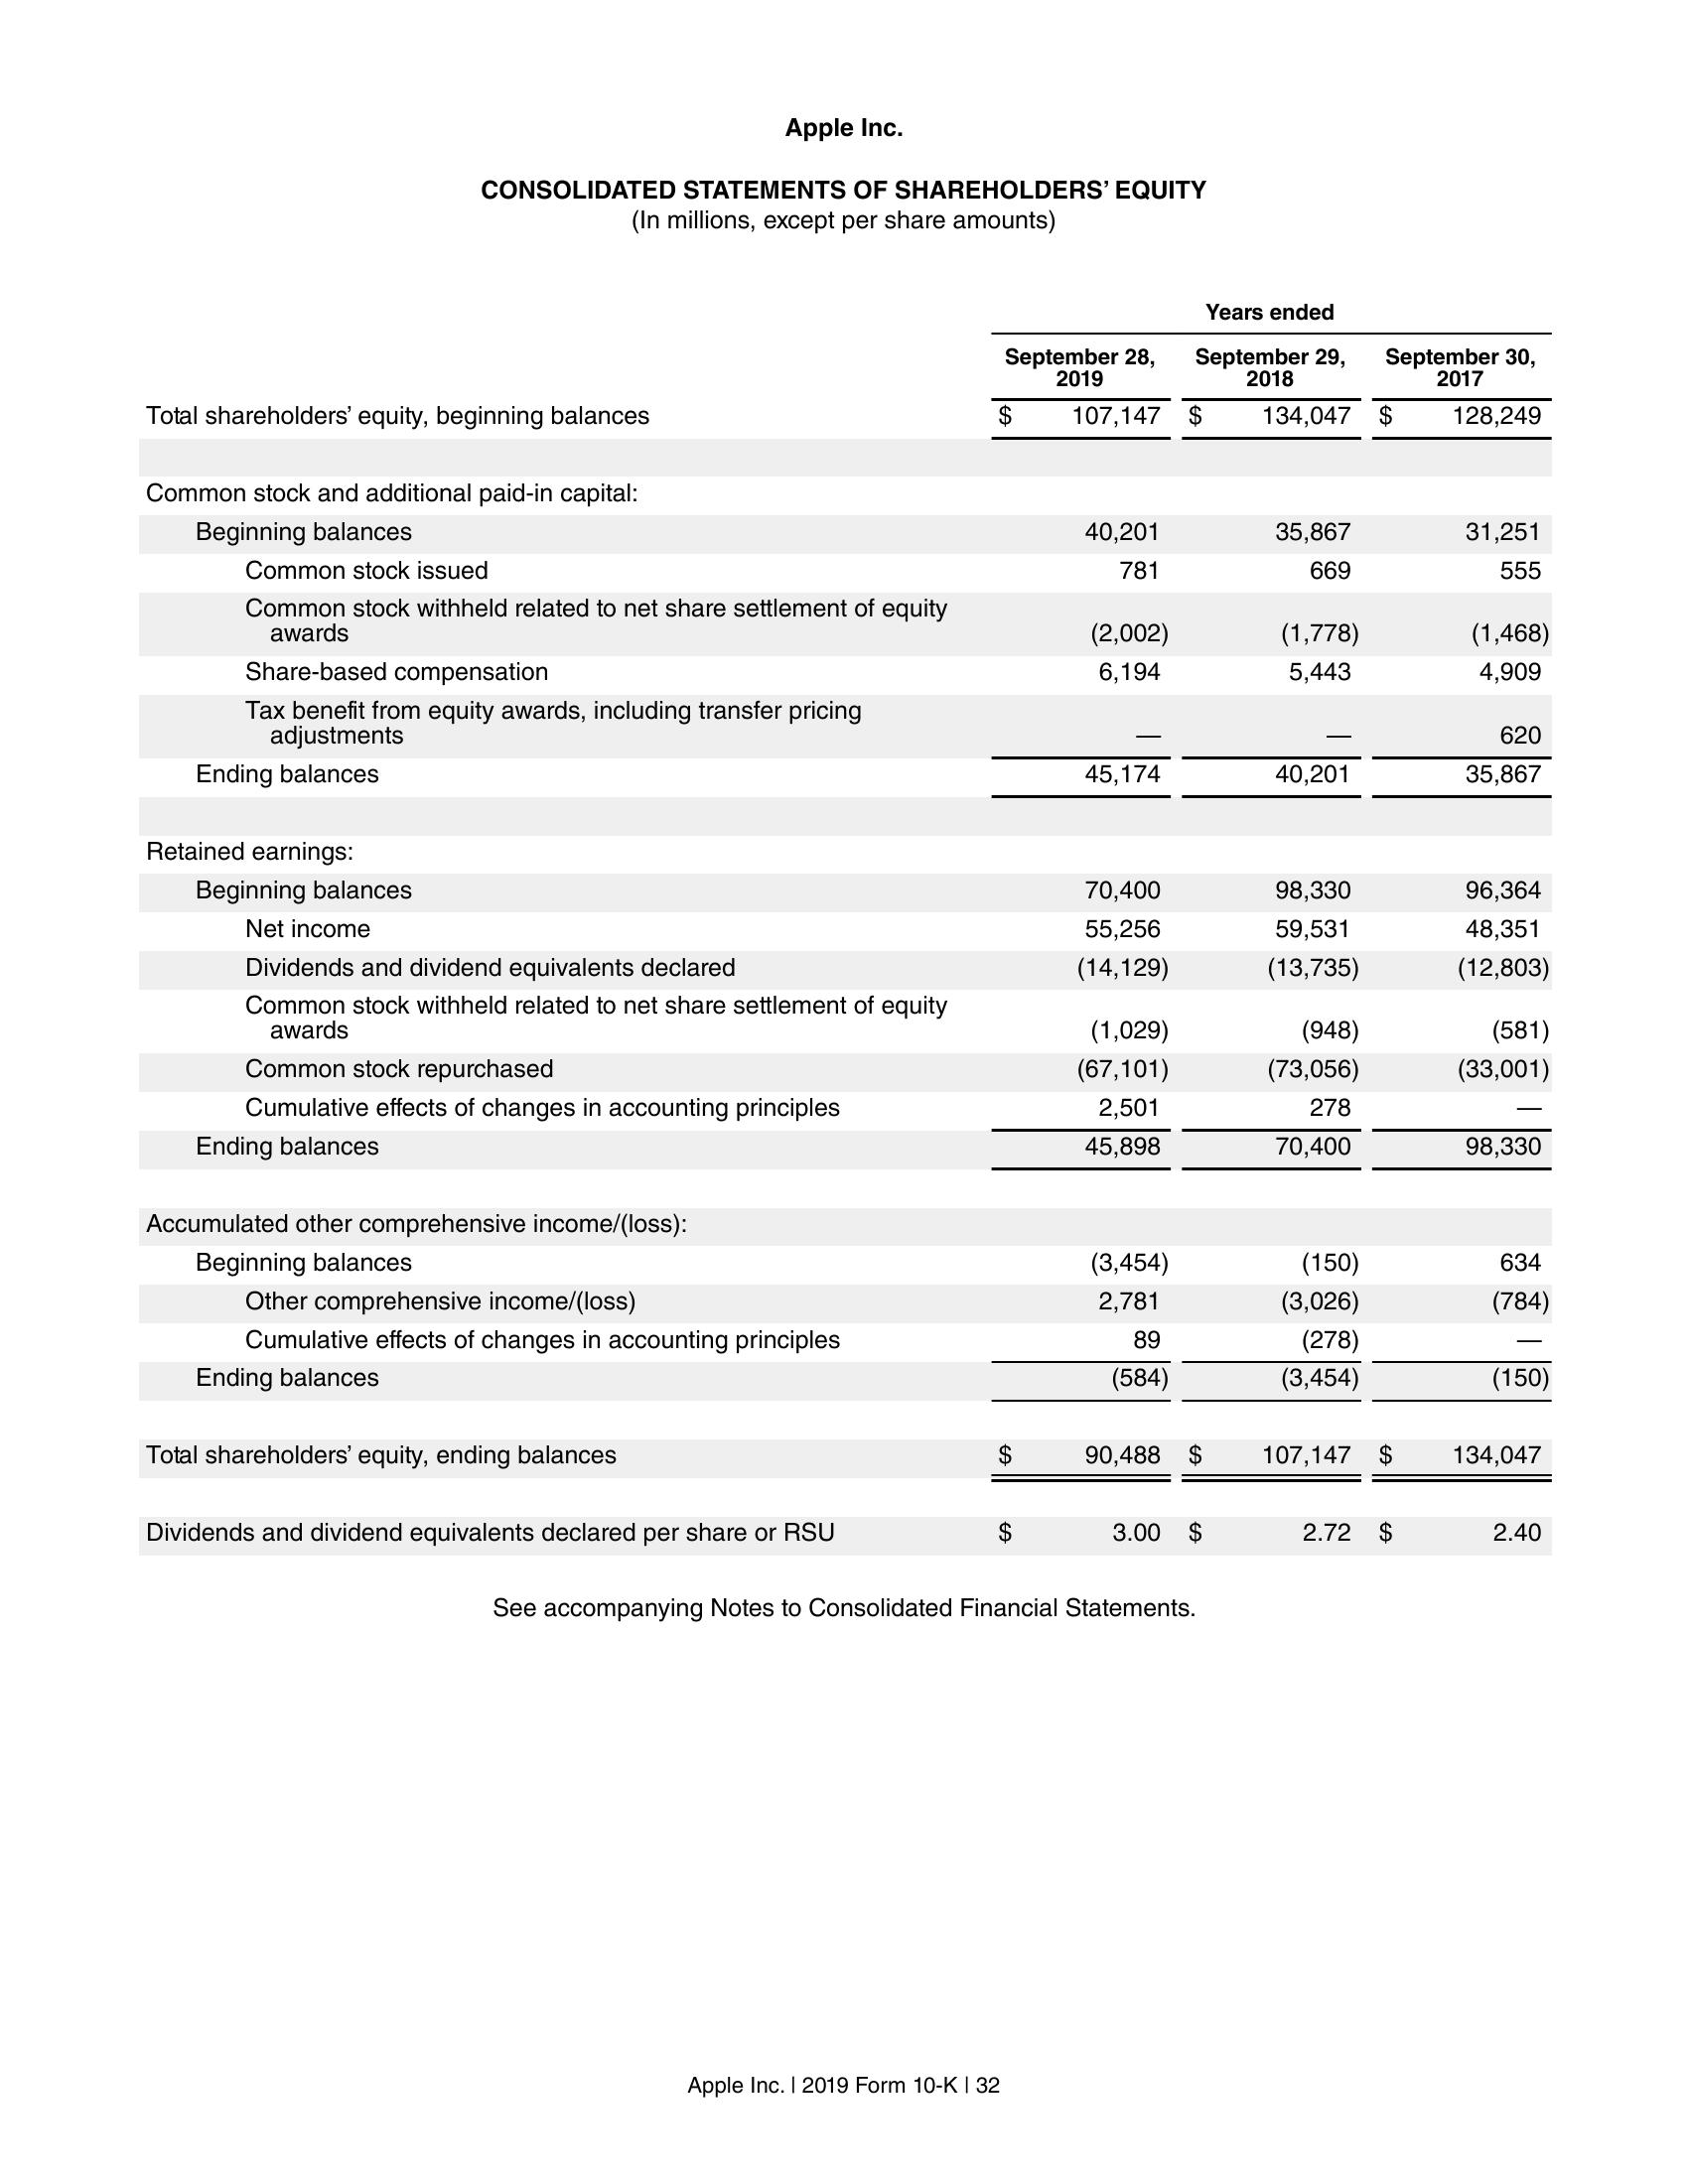table: (142, 301, 1560, 1553)
